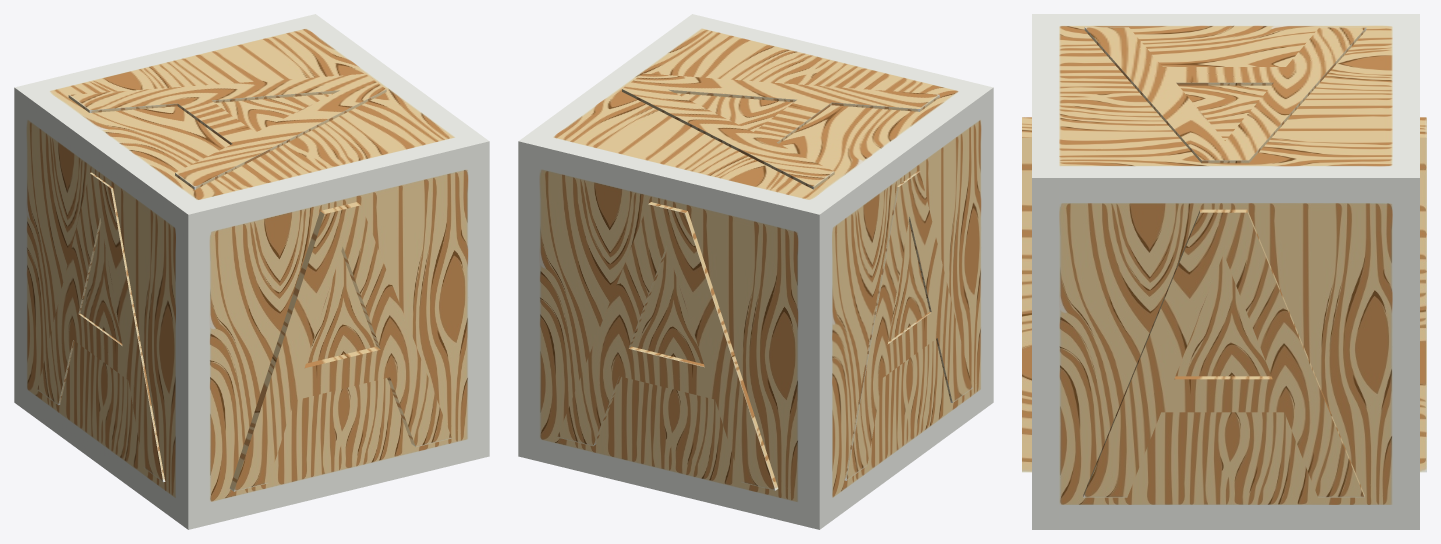
File: LetterA-final.fbx
3 views of the same model, side by side, from view 1: azimuth 30°, elevation 25°; view 2: azimuth 150°, elevation 25°; view 3: azimuth 270°, elevation 25° (orthographic). The views are drawn at different scales.
Visible parts, largest first — view 1: Box, Front, Left, Top; view 2: Box, Back, Left, Top; view 3: Box, Right, Top, Front, Back.
Boxes of the visible parts, x1,y1,x2,y2 form: Box: [14, 14, 489, 529]; Front: [229, 202, 451, 491]; Left: [37, 172, 165, 482]; Top: [68, 74, 386, 189]; Box: [518, 14, 993, 529]; Back: [557, 202, 778, 490]; Left: [844, 171, 972, 480]; Top: [622, 73, 939, 189]; Box: [1032, 14, 1419, 529]; Right: [1083, 209, 1364, 497]; Top: [1084, 27, 1366, 163]; Front: [1022, 117, 1031, 472]; Back: [1420, 117, 1426, 472].
Size of the model in its own units: 1.02 by 1.02 by 1.04.
Materials: 2 (2 with a texture image).
